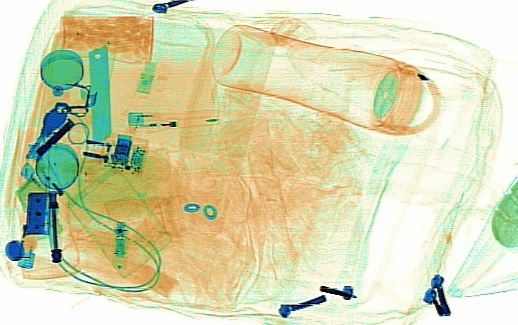knife: (83, 43, 112, 145)
lighter: (18, 160, 92, 231), (125, 105, 215, 130), (14, 196, 41, 266)
